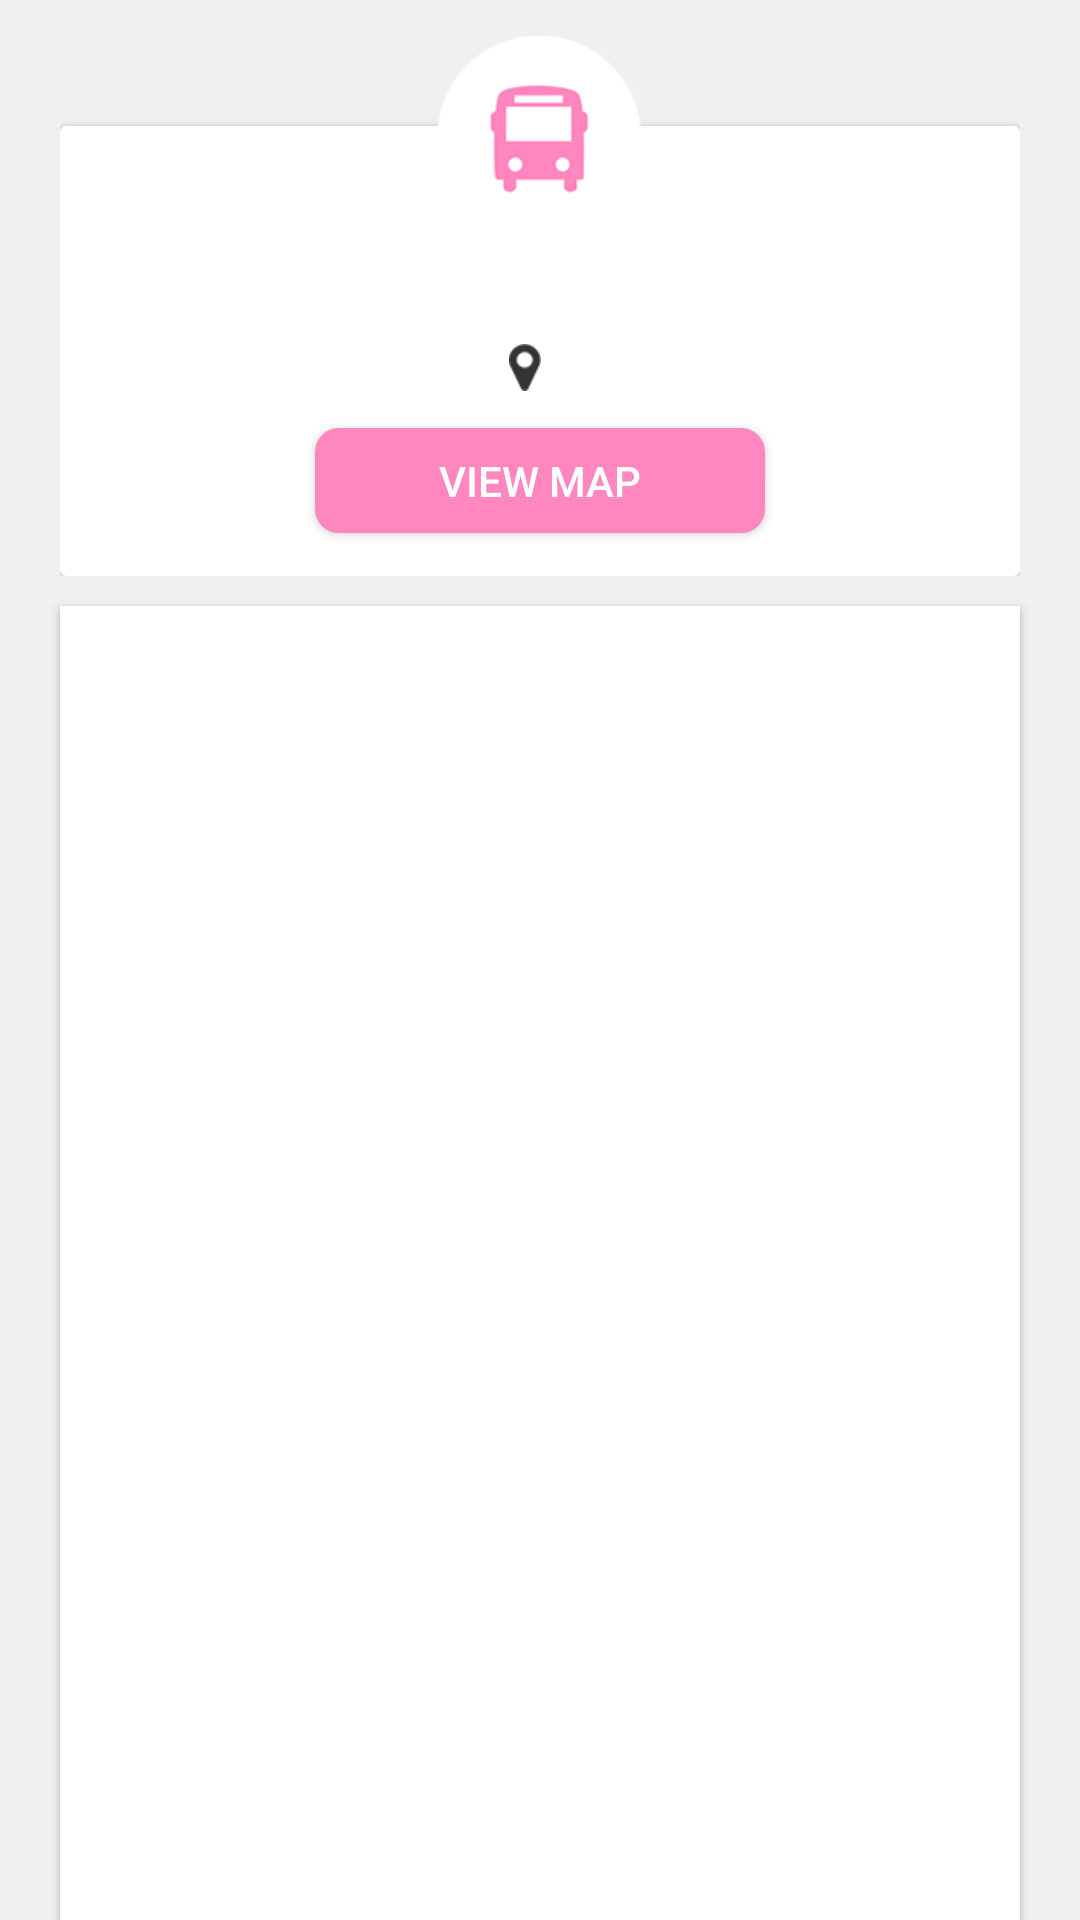

Icons on this 1080*1920 Android screen, each with the point to tap as (x=x, y=y):
bus: (x=539, y=139)
